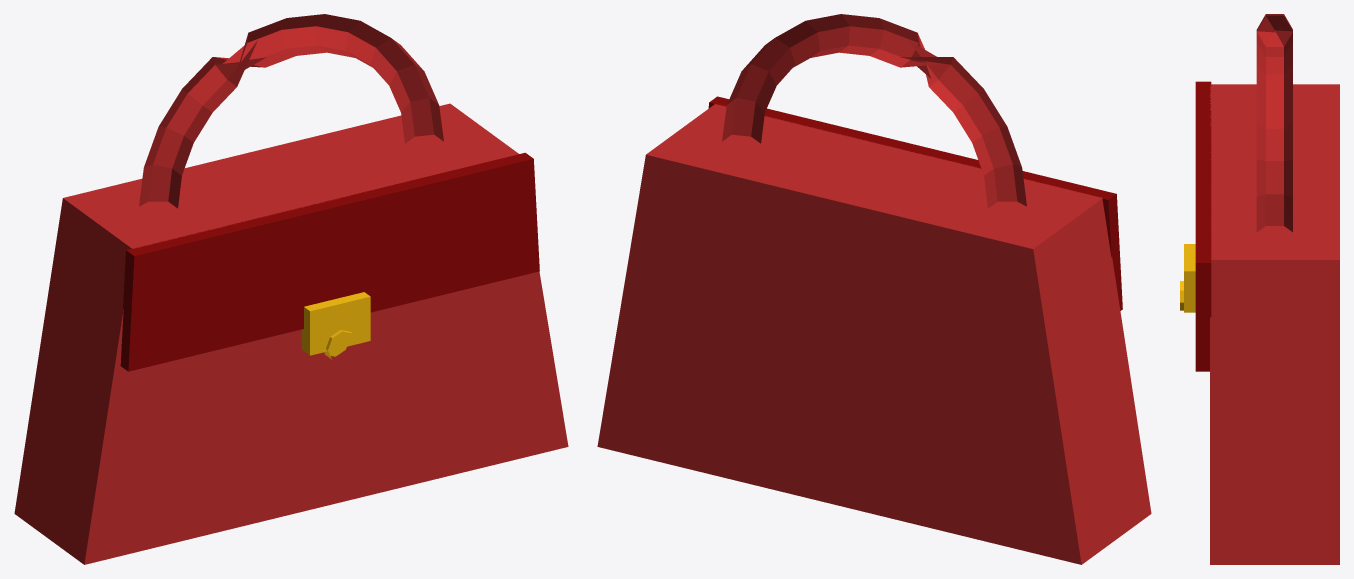
The model's file is handvaska.glb.
The picture shows the model from 3 angles, left to right: view 1: azimuth 30°, elevation 25°; view 2: azimuth 150°, elevation 25°; view 3: azimuth 270°, elevation 25°; orthographic projection. The views are drawn at different scales.
Parts seen in each view (by area): view 1: handvaska; view 2: handvaska; view 3: handvaska.
Part boxes in pixels (x1,y1,x2,y2): handvaska: (14, 14, 568, 564); handvaska: (597, 14, 1151, 564); handvaska: (1180, 14, 1339, 564).
Size of the model in its own units: 0.4 by 0.3621 by 0.123.
